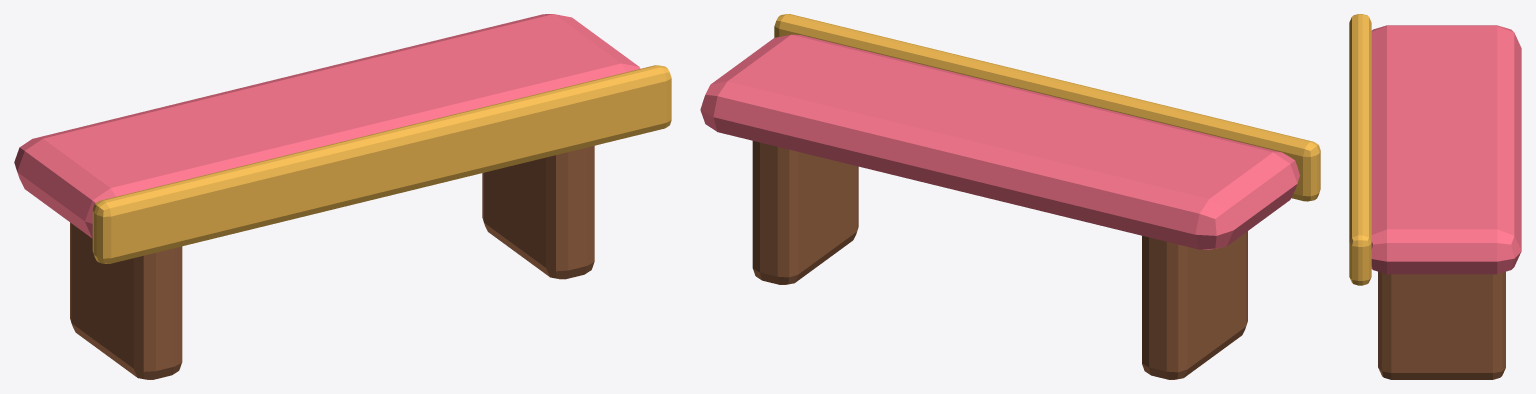
File: bench.glb
3 renders of one model, left to right at view 1: azimuth 30°, elevation 25°; view 2: azimuth 150°, elevation 25°; view 3: azimuth 270°, elevation 25°, orthographic. The views are drawn at different scales.
Parts seen in each view (by area): view 1: MuseumBenchMesh; view 2: MuseumBenchMesh; view 3: MuseumBenchMesh.
Part boxes in pixels (x1,y1,x2,y2): MuseumBenchMesh: (14,14,671,379); MuseumBenchMesh: (700,14,1320,379); MuseumBenchMesh: (1349,14,1521,379).
Bounding box in the file's own units: 2.45 × 0.845 × 0.78.
